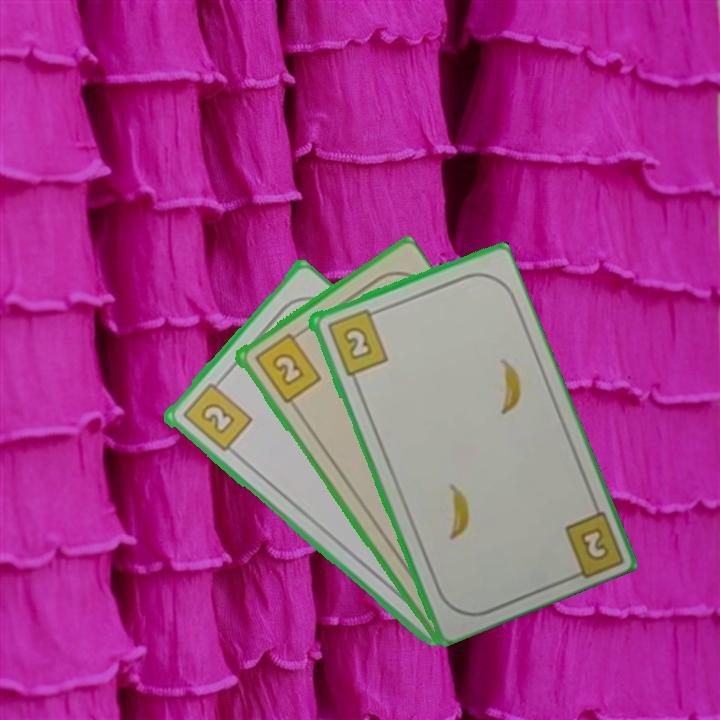2b: (178, 376, 254, 455), (250, 327, 324, 406), (323, 304, 391, 378), (576, 523, 612, 564)
